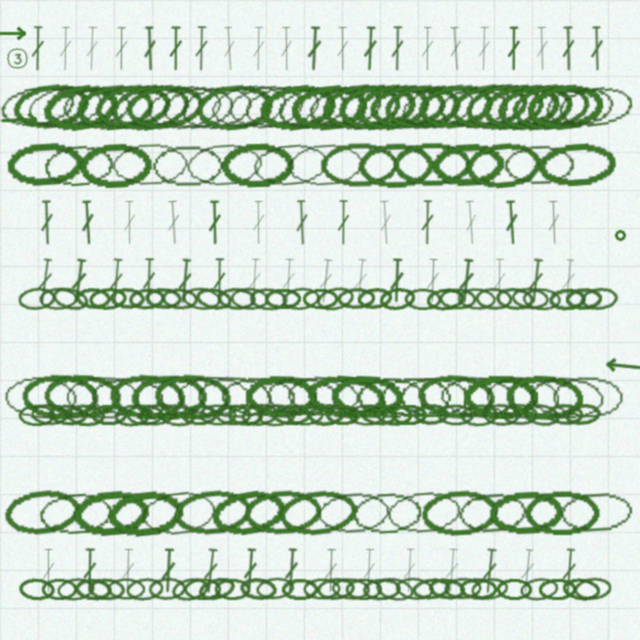chain: (23, 78, 108, 136), (396, 77, 479, 136), (447, 78, 532, 135), (240, 79, 325, 135), (303, 78, 386, 135), (108, 79, 192, 135), (352, 78, 434, 135), (509, 79, 593, 134), (39, 79, 121, 135), (143, 79, 225, 135), (176, 79, 258, 135), (208, 485, 290, 541), (10, 79, 93, 134), (207, 79, 290, 134), (335, 79, 418, 134), (463, 79, 546, 134), (479, 79, 562, 134), (272, 79, 353, 135), (494, 79, 575, 135), (415, 79, 497, 134), (0, 78, 79, 135), (124, 80, 207, 134), (277, 486, 360, 540), (256, 80, 338, 134), (554, 80, 636, 134), (92, 80, 173, 134), (158, 80, 239, 134), (320, 80, 402, 133), (138, 486, 220, 539), (540, 80, 620, 134), (225, 80, 306, 133), (524, 80, 605, 133), (194, 81, 276, 133), (367, 81, 449, 133), (382, 81, 464, 133), (250, 139, 332, 191), (2, 486, 82, 539), (74, 81, 155, 133), (288, 81, 369, 133), (305, 371, 386, 423), (172, 487, 254, 538), (463, 139, 543, 191), (105, 487, 185, 539), (536, 140, 617, 190), (416, 372, 497, 422), (71, 487, 150, 538), (384, 487, 463, 538), (184, 140, 264, 190), (285, 140, 365, 190), (526, 372, 606, 422), (35, 488, 115, 538), (314, 488, 394, 538), (58, 81, 136, 132), (153, 372, 233, 421), (194, 372, 274, 421), (437, 372, 517, 421), (420, 488, 500, 537), (435, 82, 513, 132), (40, 140, 118, 190), (454, 488, 532, 538), (5, 140, 84, 189), (262, 372, 341, 421), (284, 372, 363, 421), (243, 488, 322, 537), (556, 488, 635, 537), (483, 373, 563, 421), (504, 373, 584, 421), (108, 372, 186, 421), (349, 488, 426, 537), (2, 373, 80, 421), (110, 141, 189, 188), (21, 373, 100, 420), (430, 141, 507, 189), (329, 373, 406, 421), (488, 489, 565, 537), (43, 373, 121, 420), (78, 141, 154, 189), (218, 374, 297, 420), (175, 373, 252, 420), (320, 142, 398, 188), (64, 374, 142, 420), (220, 141, 296, 188), (393, 142, 472, 187), (357, 142, 434, 188), (501, 142, 578, 188), (88, 374, 165, 420), (130, 374, 207, 420), (149, 142, 225, 188), (354, 374, 430, 420), (524, 490, 601, 535), (244, 374, 319, 420), (377, 374, 453, 419), (462, 374, 538, 419), (550, 374, 626, 419), (397, 374, 472, 419), (50, 284, 91, 314), (196, 574, 237, 604), (315, 284, 356, 313), (170, 575, 211, 603), (374, 575, 415, 603), (194, 285, 234, 313), (521, 401, 561, 429), (137, 401, 178, 428), (378, 285, 417, 312), (240, 401, 279, 428), (425, 286, 465, 312), (113, 402, 153, 428), (157, 402, 197, 428), (56, 576, 96, 602), (125, 576, 165, 602), (411, 576, 451, 602), (519, 576, 559, 602), (561, 576, 601, 602), (427, 576, 466, 602), (470, 576, 509, 602), (281, 286, 321, 311), (255, 576, 295, 601), (573, 576, 613, 601), (17, 286, 56, 311), (88, 286, 127, 311), (182, 286, 221, 311), (495, 286, 534, 311), (580, 286, 619, 311), (316, 576, 355, 601), (395, 576, 434, 601), (356, 286, 394, 311), (511, 286, 549, 311), (307, 402, 345, 427), (563, 402, 601, 427), (239, 576, 277, 601), (249, 287, 288, 311), (457, 287, 496, 311), (522, 287, 561, 311), (48, 403, 87, 427), (66, 403, 105, 427), (257, 403, 296, 427), (331, 577, 370, 601), (362, 577, 401, 601), (128, 287, 166, 311), (161, 287, 199, 311), (548, 287, 586, 311), (360, 403, 398, 427), (460, 403, 498, 427), (18, 577, 56, 601), (74, 577, 112, 601), (88, 577, 126, 601), (217, 287, 256, 310), (230, 287, 269, 310), (39, 287, 77, 310), (144, 287, 182, 310), (337, 287, 375, 310), (475, 287, 513, 310), (482, 403, 520, 426), (148, 577, 186, 600), (444, 577, 482, 600), (459, 577, 497, 600), (75, 287, 112, 310), (109, 287, 146, 310), (565, 287, 602, 310), (31, 403, 68, 426), (227, 403, 264, 426), (376, 403, 413, 426), (413, 403, 450, 426), (501, 403, 538, 426), (547, 403, 584, 426), (404, 288, 442, 310), (18, 404, 56, 426), (126, 404, 164, 426), (199, 404, 237, 426), (272, 404, 310, 426), (286, 404, 324, 426), (348, 404, 386, 426), (107, 578, 145, 600), (303, 578, 341, 600), (538, 578, 576, 600), (264, 288, 301, 310), (302, 288, 339, 310), (439, 288, 476, 310), (90, 404, 127, 426), (181, 404, 218, 426), (215, 404, 252, 426), (390, 404, 427, 426), (437, 404, 474, 426), (41, 578, 78, 600), (184, 578, 221, 600), (214, 578, 251, 600), (281, 578, 318, 600), (345, 578, 382, 600), (496, 578, 533, 600), (325, 404, 361, 426)
double: (35, 258, 55, 304), (69, 258, 89, 304), (526, 258, 546, 304), (316, 258, 335, 304), (351, 258, 370, 304), (457, 258, 476, 304), (559, 258, 578, 304), (201, 548, 220, 594), (480, 548, 499, 594), (518, 548, 537, 594), (107, 258, 125, 304), (176, 258, 194, 304), (560, 548, 578, 594), (462, 200, 480, 245), (241, 548, 259, 593), (443, 548, 461, 593), (221, 26, 238, 71), (306, 26, 323, 71), (447, 26, 464, 71), (79, 200, 96, 245), (165, 200, 182, 245), (377, 200, 394, 245), (503, 200, 520, 245), (246, 258, 263, 303), (280, 258, 297, 303), (160, 548, 177, 593), (283, 548, 300, 593), (401, 548, 418, 593), (84, 26, 100, 71), (142, 26, 158, 71), (362, 26, 378, 71), (476, 26, 492, 71), (534, 26, 550, 71), (589, 26, 605, 71), (39, 200, 55, 245), (294, 200, 310, 245), (546, 200, 562, 245), (141, 258, 157, 303), (389, 258, 405, 303), (425, 258, 441, 303), (120, 548, 136, 593), (323, 548, 339, 593), (361, 548, 377, 593), (30, 26, 45, 71), (58, 26, 73, 71), (114, 26, 129, 71), (168, 26, 183, 71), (194, 26, 209, 71), (251, 26, 266, 71), (279, 26, 294, 71), (335, 26, 350, 71), (390, 26, 405, 71), (420, 26, 435, 71), (506, 26, 521, 71), (561, 26, 576, 71), (122, 200, 137, 245), (207, 200, 222, 245), (251, 200, 266, 245), (336, 200, 351, 245), (420, 200, 435, 245), (212, 258, 227, 303), (492, 258, 507, 303), (41, 548, 56, 593), (82, 548, 97, 593)
noise: (603, 356, 640, 375), (5, 46, 30, 71), (0, 112, 39, 128), (0, 26, 28, 41), (614, 229, 626, 241)
